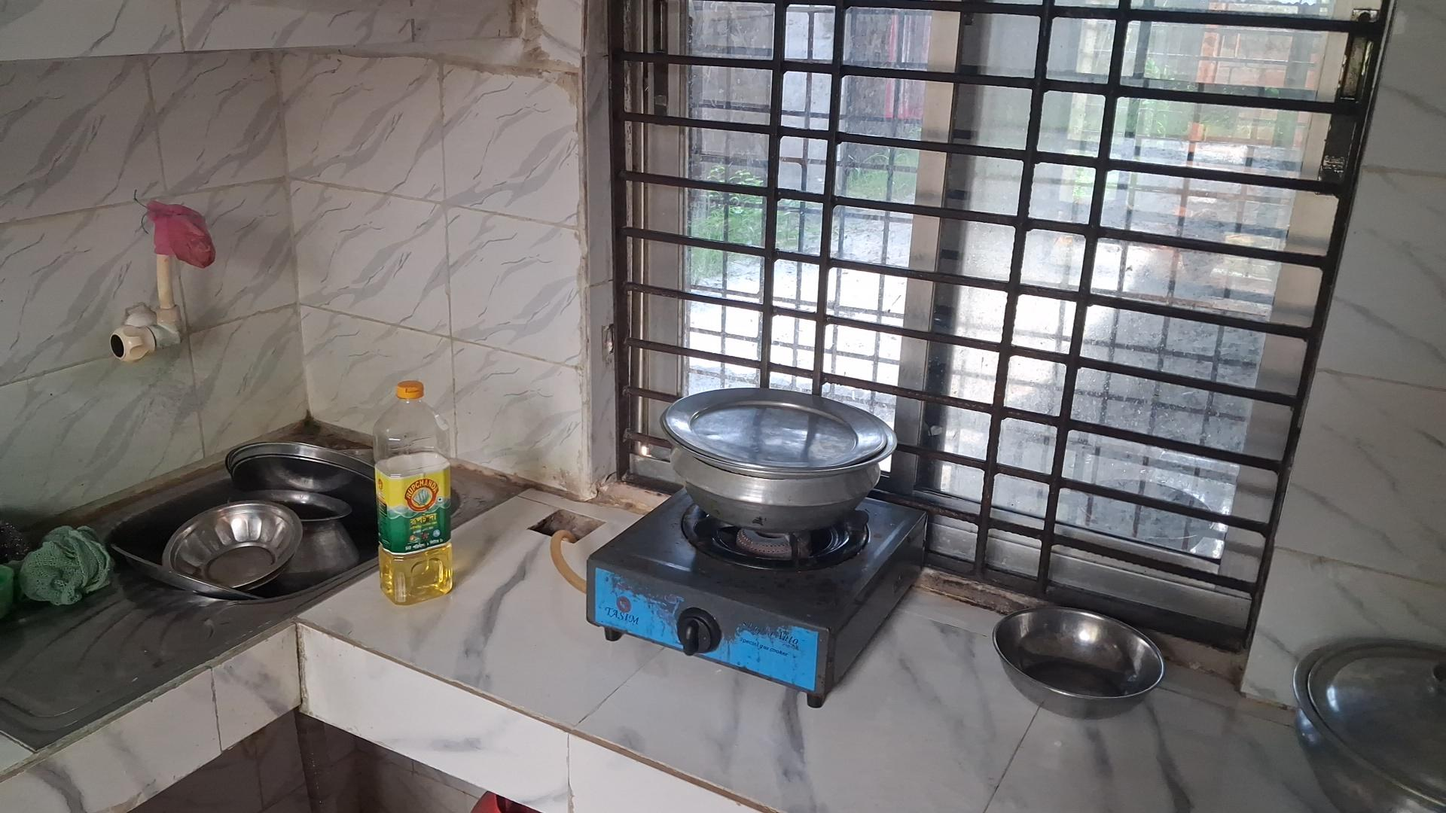Bottle: (372, 380, 454, 606)
Bowl: (992, 607, 1166, 718), (164, 500, 303, 590)
Pot: (662, 386, 893, 534)
Window: (607, 0, 1387, 660)
